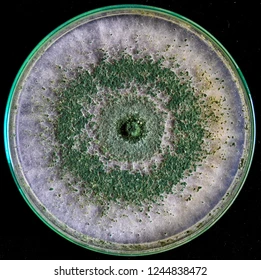Trichoderma: (48, 50, 223, 196)
